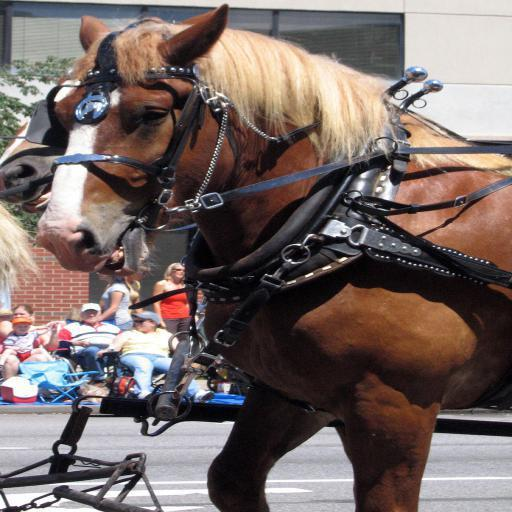horse: (36, 3, 510, 512)
